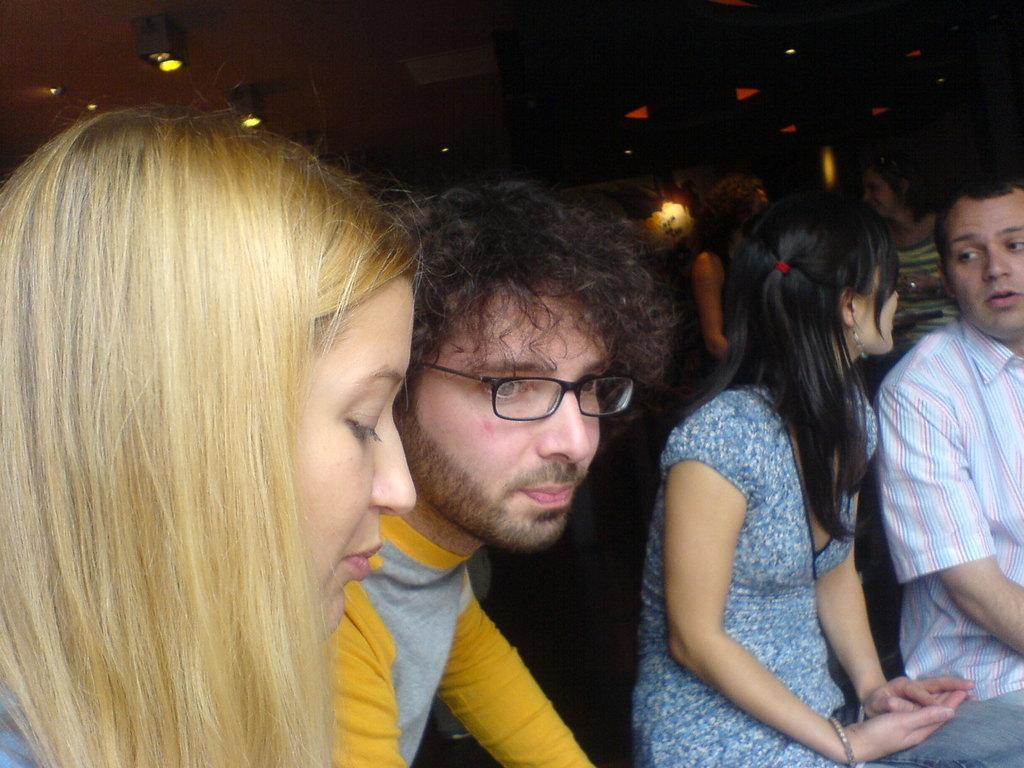Sem Máscara: (391, 283, 607, 555), (288, 272, 414, 637), (946, 185, 1021, 339), (851, 257, 897, 352), (864, 167, 893, 218)
